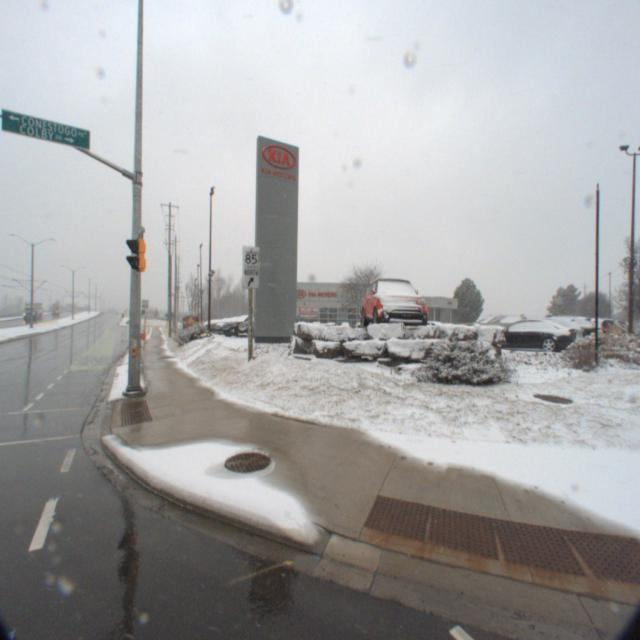Car: (357, 270, 433, 334), (469, 316, 577, 356), (490, 315, 582, 354), (506, 312, 594, 352), (214, 312, 270, 339), (426, 320, 472, 340), (412, 319, 456, 339)
